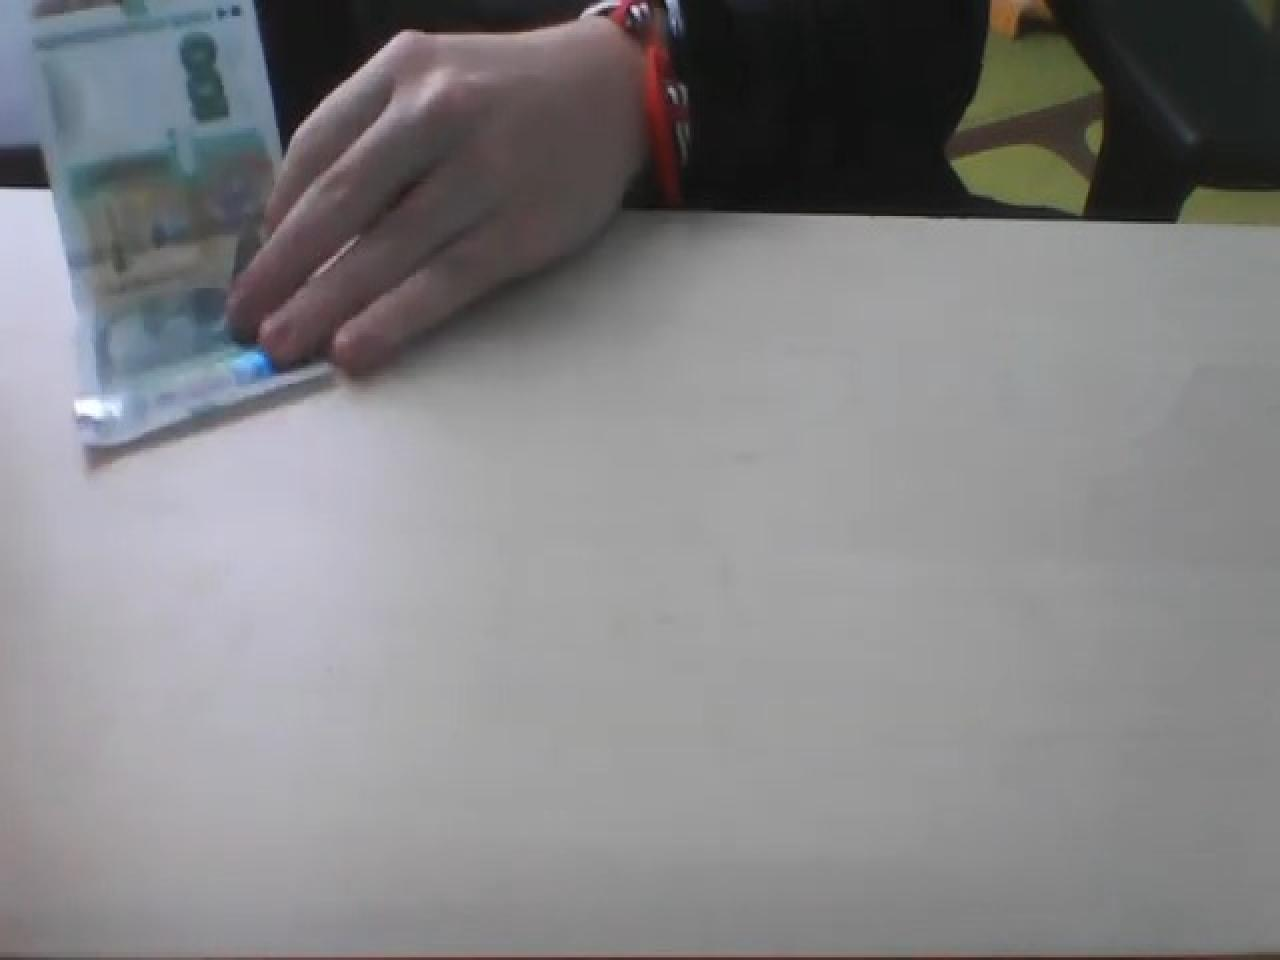100leva: (26, 0, 336, 451)
